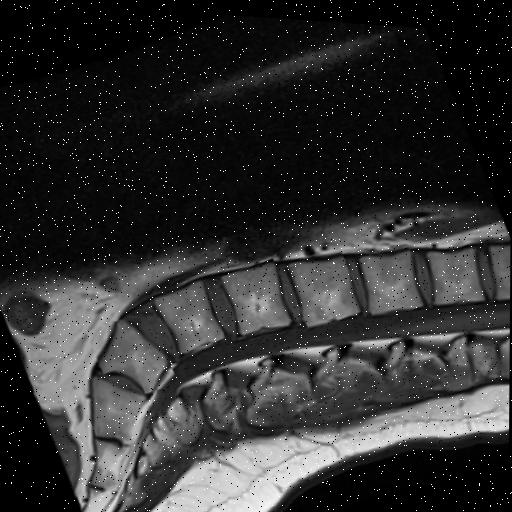L1: (359, 246, 422, 308)
L2: (288, 254, 359, 321)
L3: (221, 261, 290, 330)
L4: (155, 279, 223, 351)
L5: (99, 318, 167, 393)
S1: (93, 376, 145, 437)
